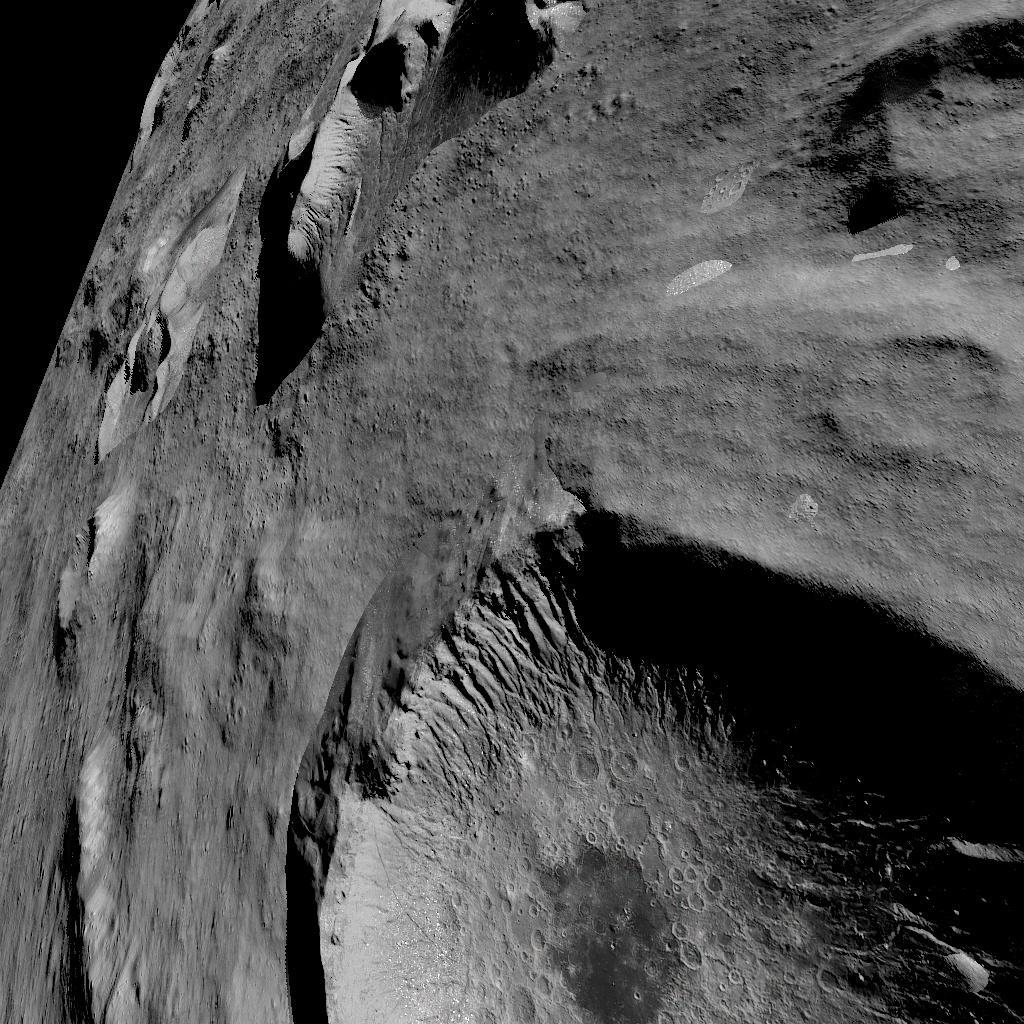Boulders: (243, 0, 644, 399), (74, 160, 230, 452)
Crater: (277, 508, 1024, 1024), (839, 8, 1024, 234), (811, 324, 1005, 484)
